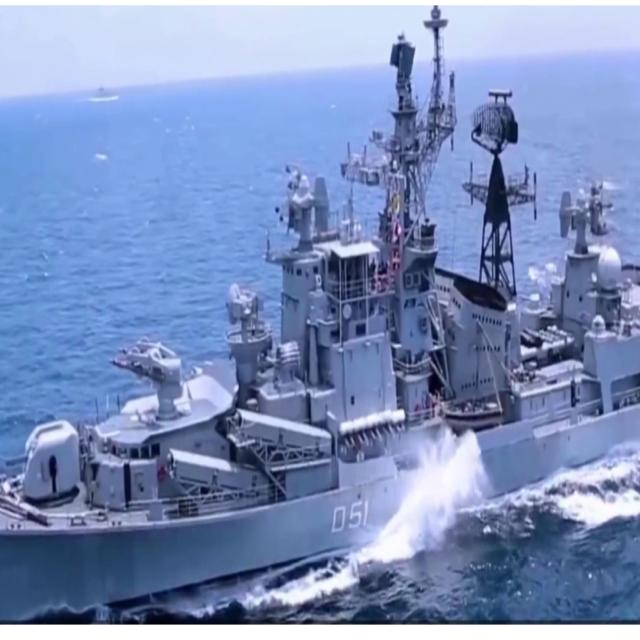OCR: (321, 484, 373, 542)
